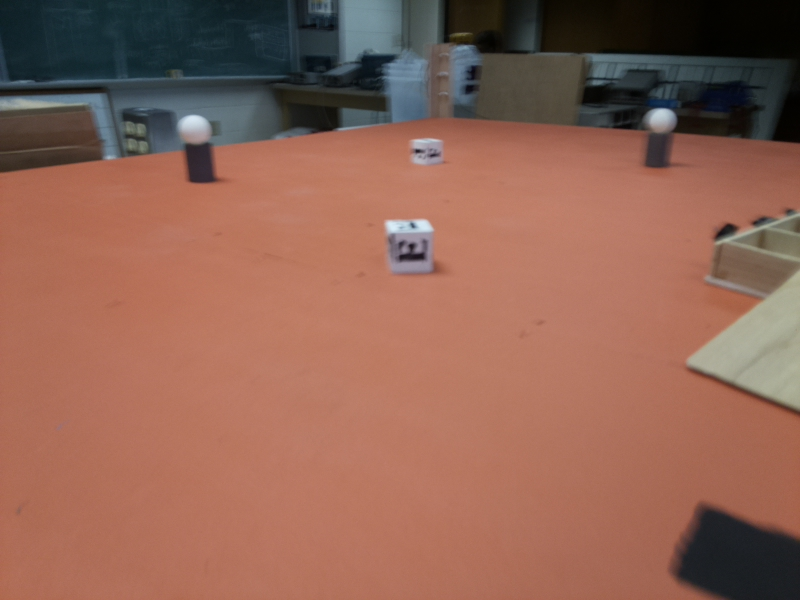blockE: (385, 217, 437, 277)
blockF: (409, 134, 444, 169)
corner: (426, 47, 453, 116)
obstacle: (181, 113, 217, 186), (642, 110, 674, 171)
side: (709, 202, 799, 277)
start: (654, 490, 800, 596)
